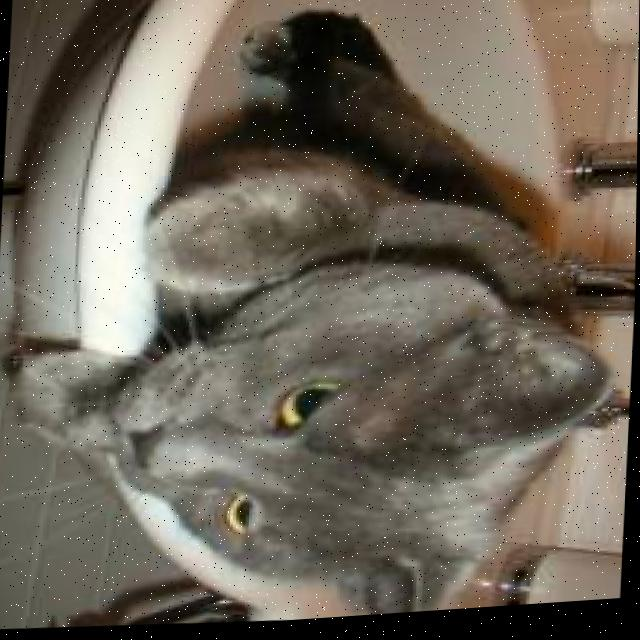Russian Blue: (0, 0, 637, 640)
